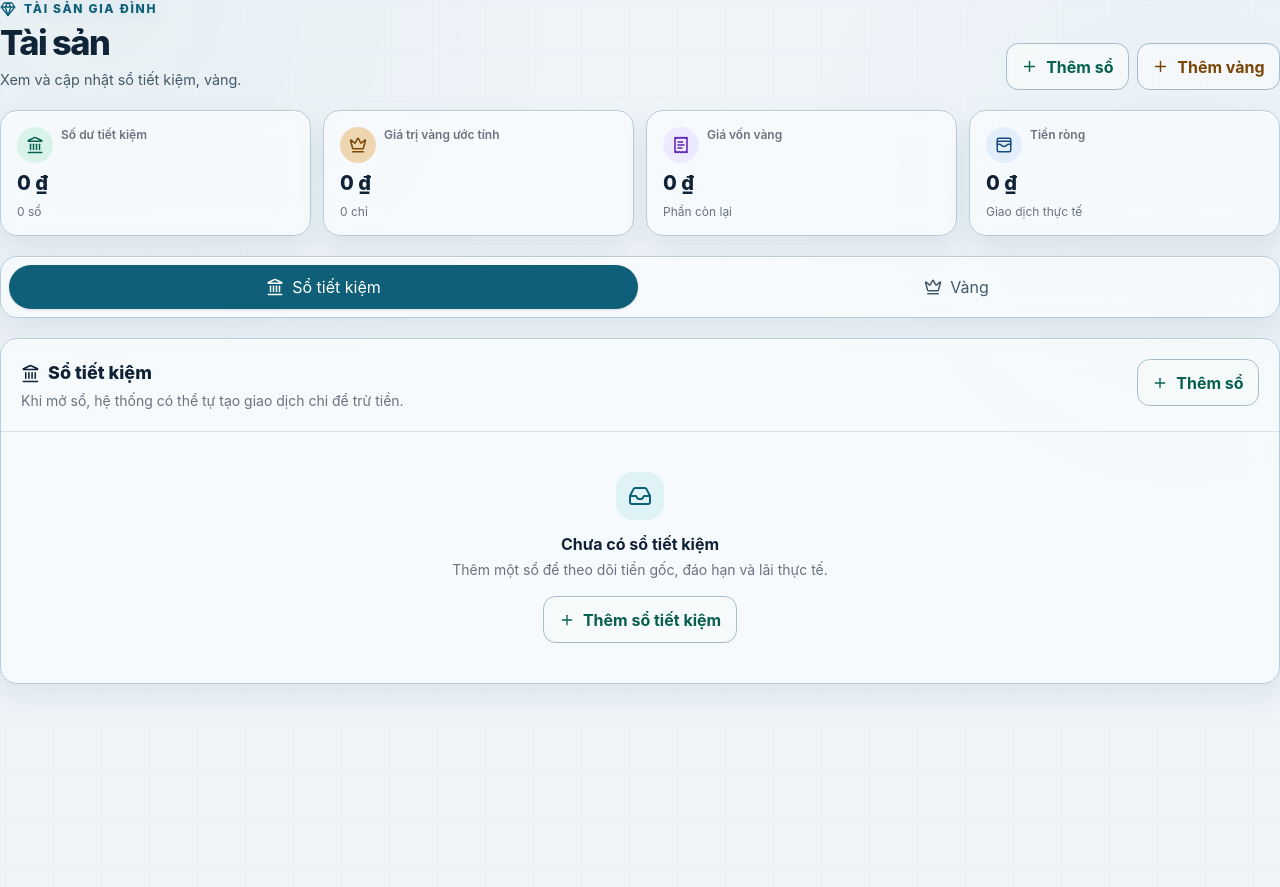
Test case: Tài sản › hiển thị phần cài đặt giá mua vào dùng chung rõ ràng
Click the tab "Vàng" at (956, 287), box [642,265,1271,309]
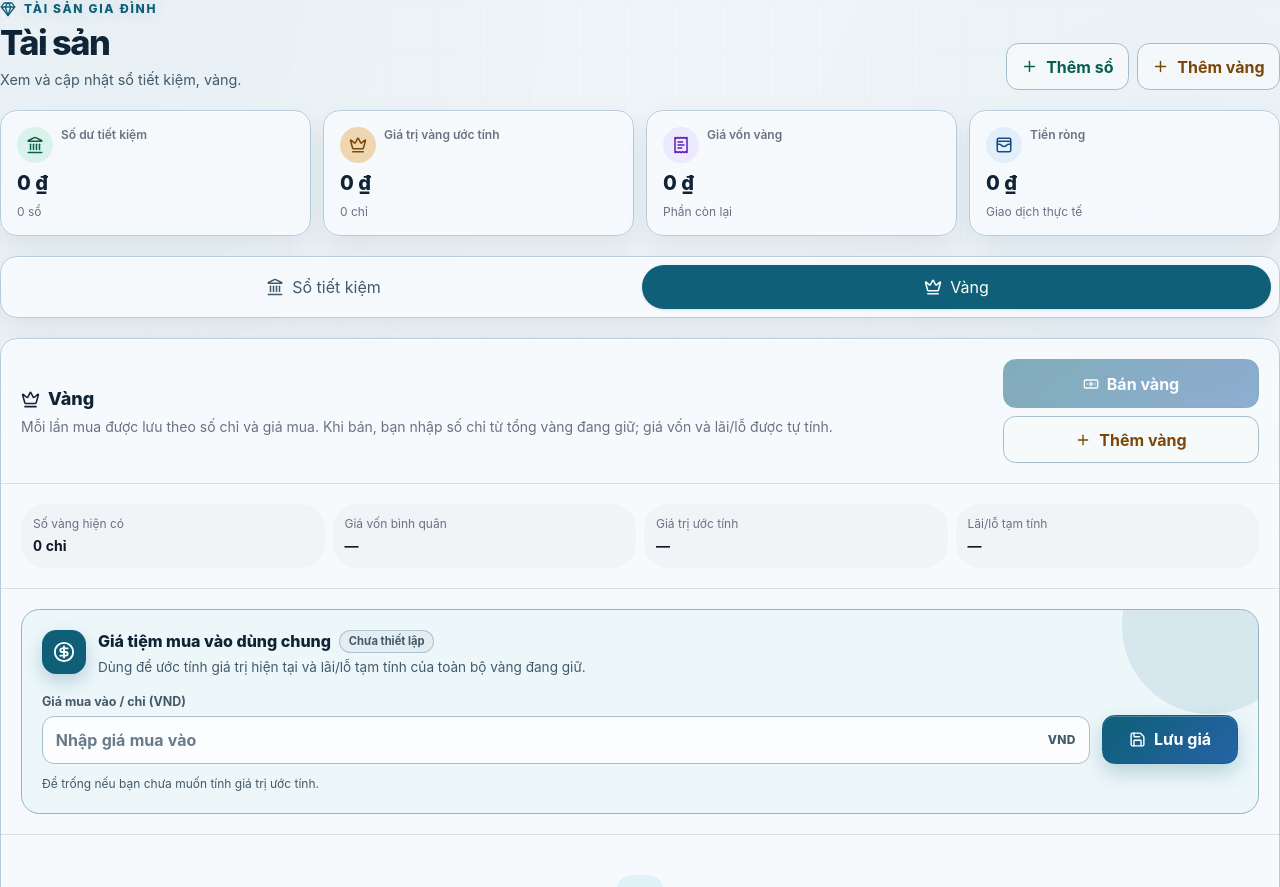
Now the element "Giá tiệm mua vào dùng chung" is shown, box [21,609,1259,814]
Now the text "Chưa thiết lập" is shown, box [339,630,434,652]
